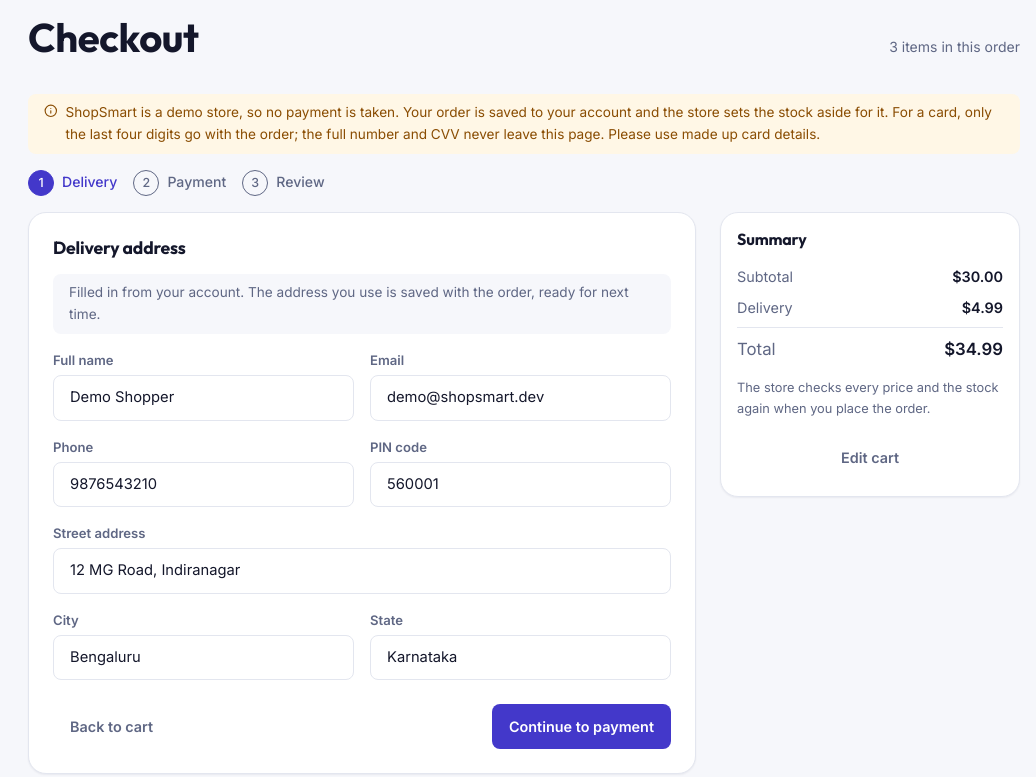
Test: Checkout › fills the delivery in from the account and sends only ids, quantities and the last four digits
Expected: the field labelled "Street address" holds "12 MG Road, Indiranagar", x1=53 y1=548 x2=671 y2=594
Expected: the field labelled "Email" holds "demo@shopsmart.dev", x1=370 y1=375 x2=671 y2=420
Click the button "Continue to payment". click: (581, 727)
box: x1=492 y1=704 x2=671 y2=749
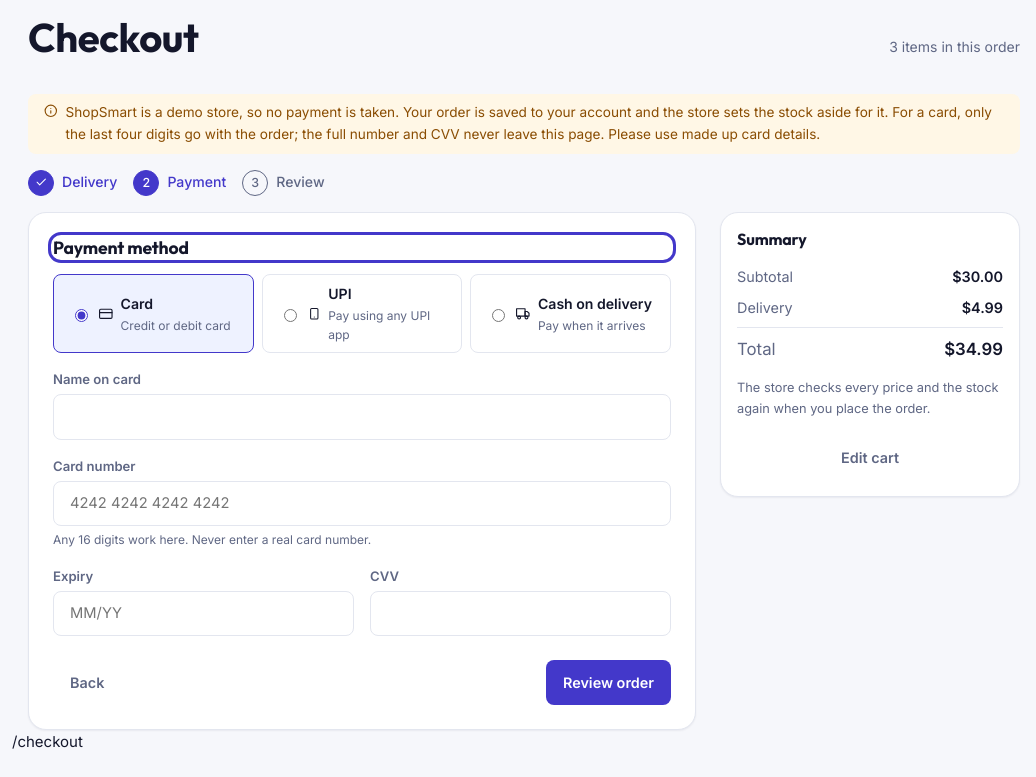
Type "Demo Shopper" into the field labelled "Name on card". click: (362, 417)
box: x1=53 y1=394 x2=671 y2=440
Type "4111 1111 1111 4242" into the field labelled "Card number". click: (362, 504)
box: x1=53 y1=481 x2=671 y2=526
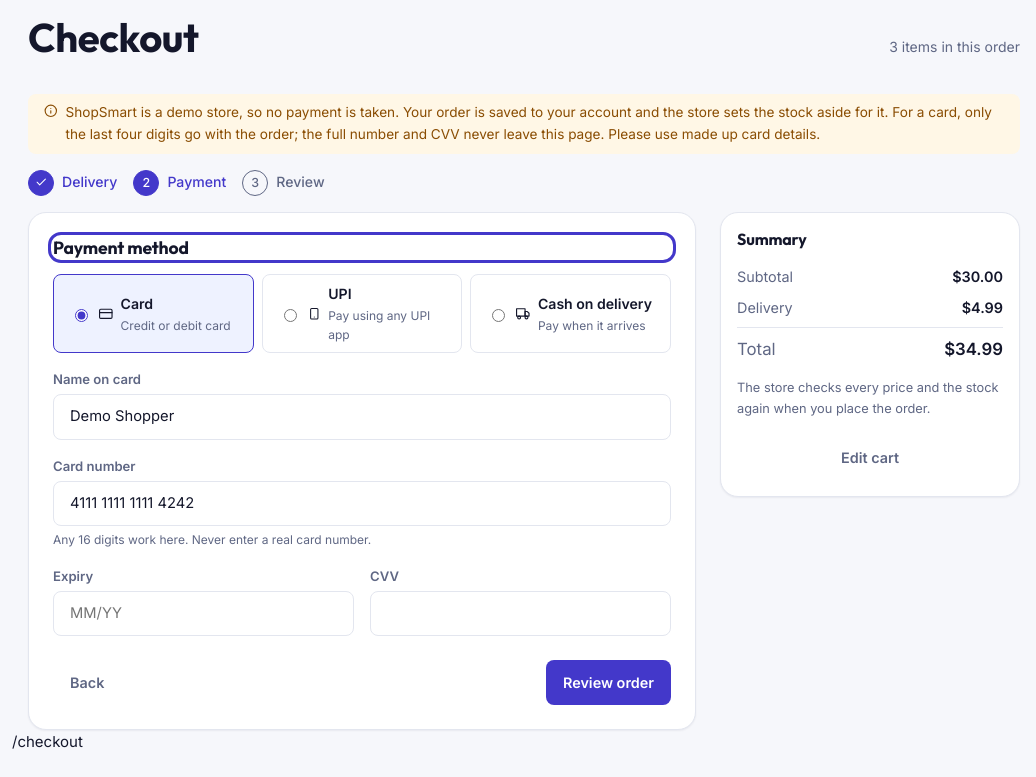
Type "1229" into the field labelled "Expiry". click: (204, 613)
box: x1=53 y1=591 x2=354 y2=636
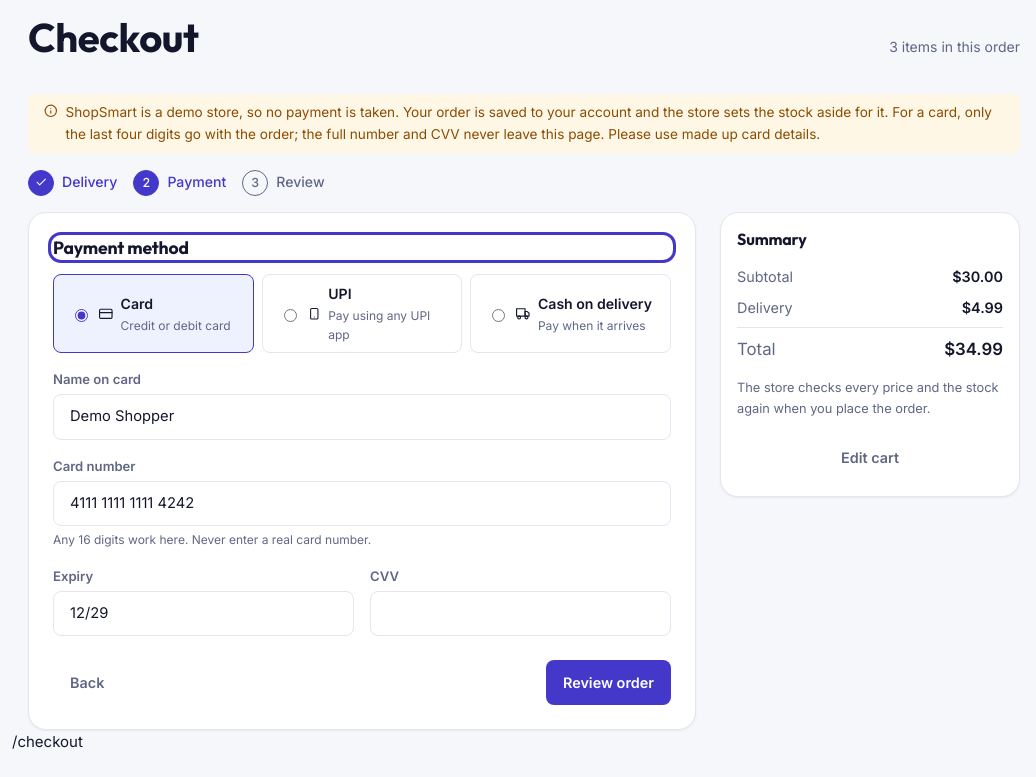
Type "123" into the field labelled "CVV". click: (520, 613)
box: x1=370 y1=591 x2=671 y2=636
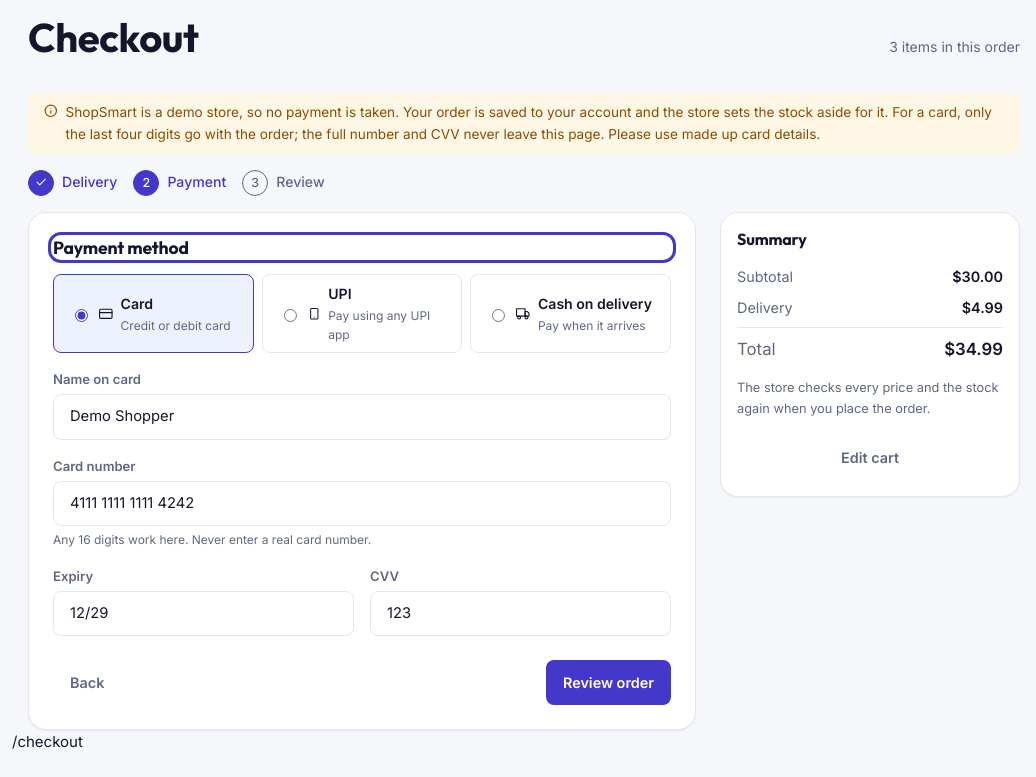
Click the button "Review order". click: (608, 683)
box: x1=546 y1=660 x2=671 y2=705
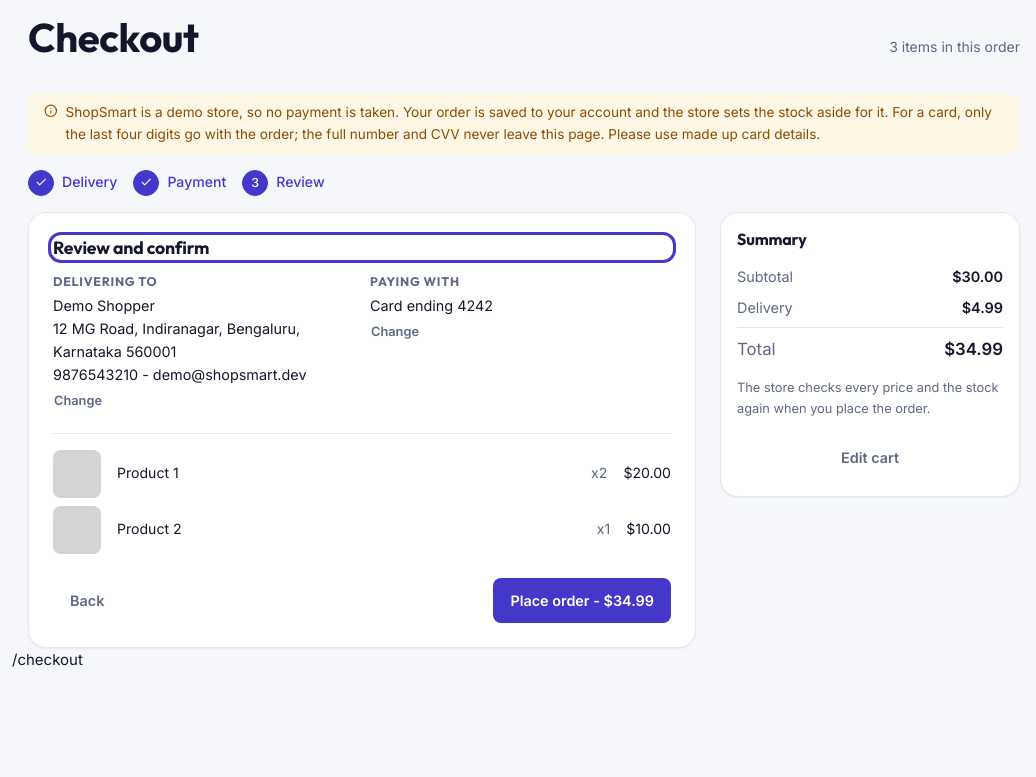
Click the button "Place order - $34.99". click: (582, 600)
box: x1=493 y1=578 x2=671 y2=623
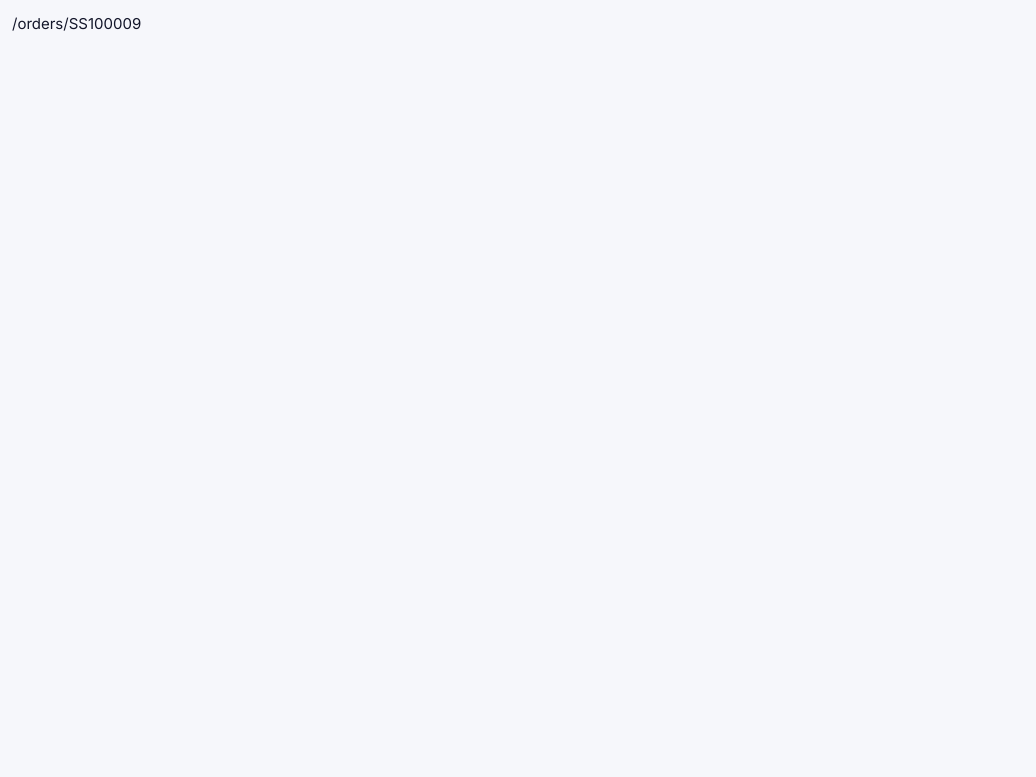
Expected: the text with test id "location" reads "/orders/SS100009", x1=12 y1=14 x2=141 y2=33
